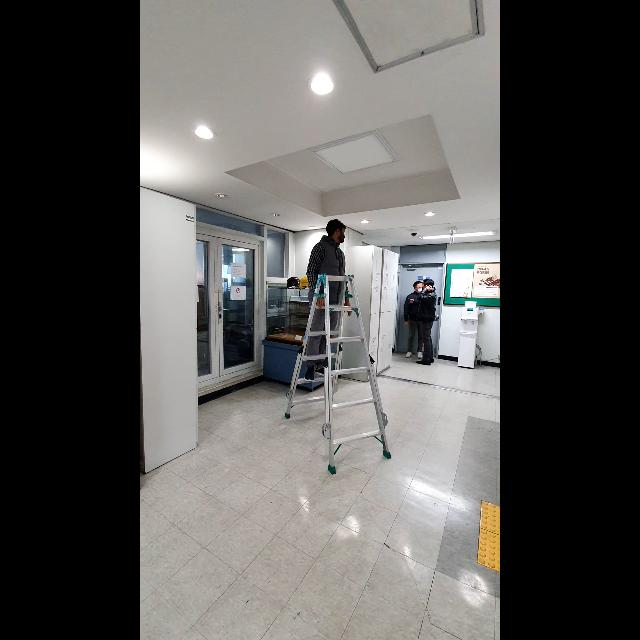hard hat: (282, 272, 393, 476)
vest: (304, 216, 354, 384), (415, 277, 437, 368), (402, 280, 424, 360)
